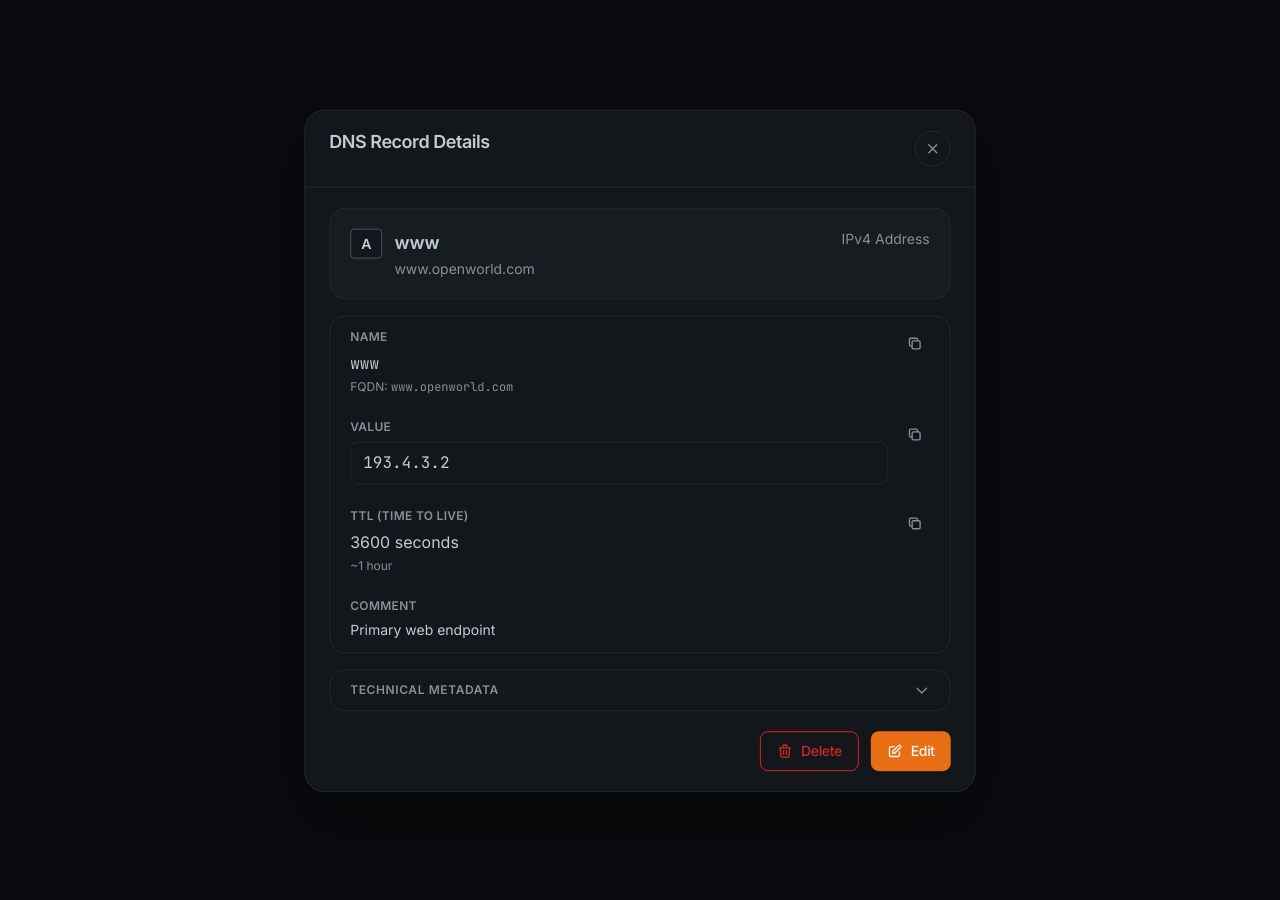
Test: DNSRecordDetailModal › expands metadata section when disclosure is clicked
What coordinates should you click on to do the following:
click the button "Technical Metadata"
I would click on:
 (425, 689)
Its box is [350,670,930,710].
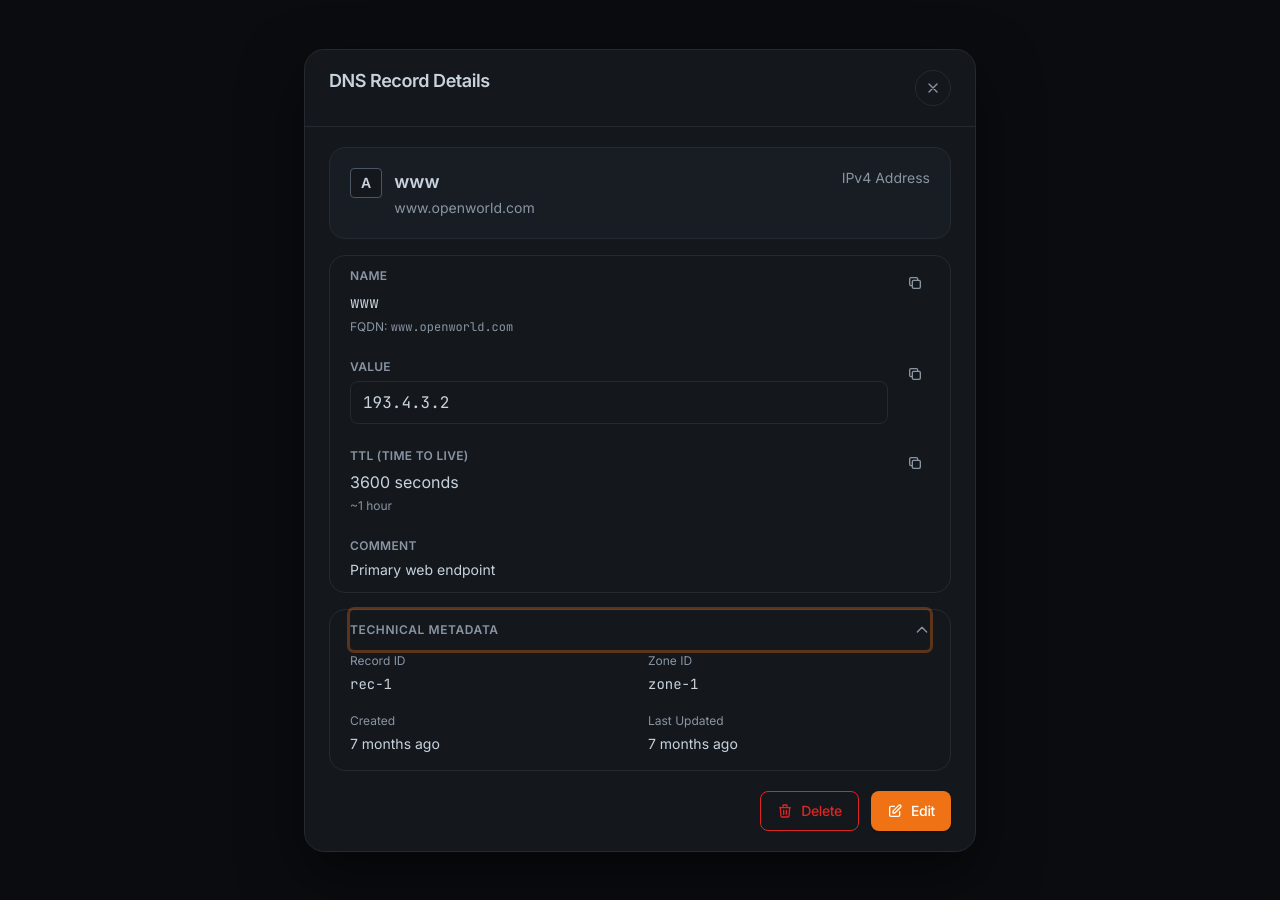
Now the button "Technical Metadata" is expanded, box [350,610,930,650]
